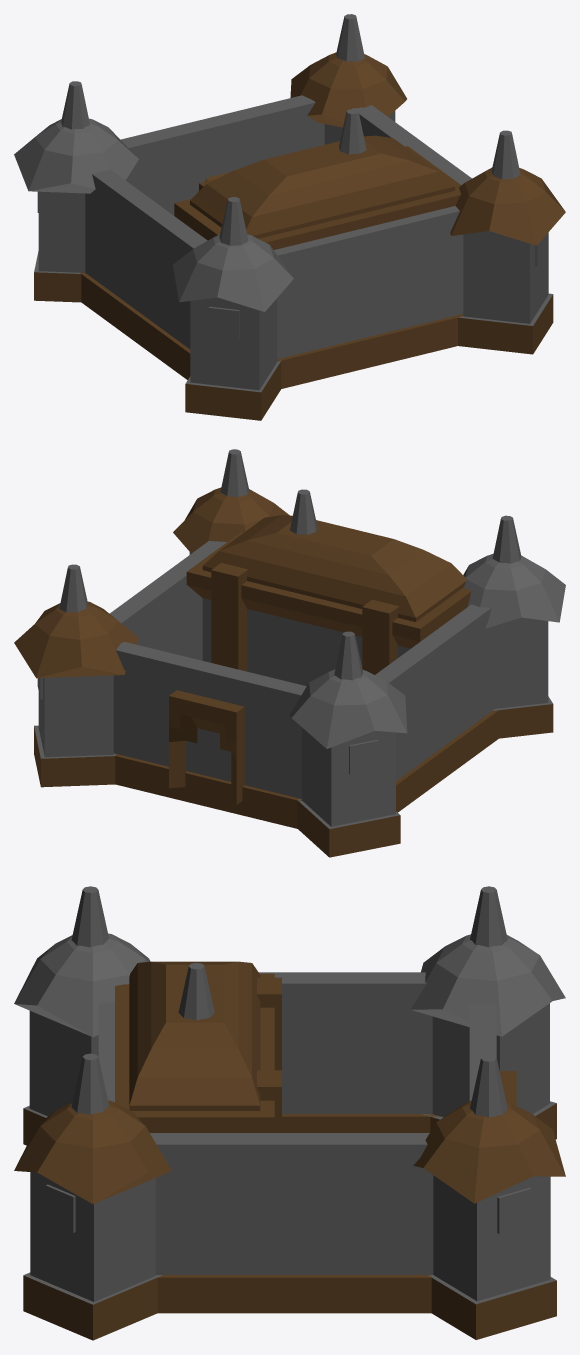
The model's file is Barracks_Upgraded.fbx.
The picture shows the model from 3 angles, top to bottom: view 1: azimuth 30°, elevation 25°; view 2: azimuth 150°, elevation 25°; view 3: azimuth 270°, elevation 25°; orthographic projection. The views are drawn at different scales.
Visible parts, largest first — view 1: Wall_02 (×4), Tower_Roof (×4), pCube2, Tower1, Tower4, Wall_04, Tower, Wall_01, pCylinder5, pCylinder4, pCylinder3, pCylinder2 (+2 smaller); view 2: Wall_02 (×3), pCube2, Tower_Roof (×4), Tower, Tower3, Tower4, Wall_03, House, pCube3, Wall_01, pCube4, pCylinder3 (+5 smaller); view 3: Wall_02 (×4), Tower_Roof (×4), pCube2, Tower1, Tower3, Wall_05, Tower, Tower4, Wall_01, Tower_Window (×2), pCylinder2, pCylinder5 (+5 smaller).
Boxes of the visible parts, <box> form: Wall_02 (×4): <box>85,95,471,358</box>; Tower_Roof (×4): <box>14,52,565,311</box>; pCube2: <box>174,135,461,249</box>; Tower1: <box>458,231,553,354</box>; Tower4: <box>185,297,281,420</box>; Wall_04: <box>277,314,463,388</box>; Tower: <box>34,191,85,302</box>; Wall_01: <box>80,272,190,379</box>; pCylinder5: <box>491,130,520,179</box>; pCylinder4: <box>219,197,248,245</box>; pCylinder3: <box>61,81,89,129</box>; pCylinder2: <box>336,14,364,61</box>; Wall_02 (×3): <box>109,541,494,798</box>; pCube2: <box>186,515,471,686</box>; Tower_Roof (×4): <box>14,487,565,748</box>; Tower: <box>297,727,400,857</box>; Tower3: <box>34,675,115,787</box>; Tower4: <box>493,617,553,738</box>; Wall_03: <box>115,753,302,828</box>; House: <box>169,690,244,804</box>; pCube3: <box>211,563,248,671</box>; Wall_01: <box>396,710,498,812</box>; pCube4: <box>362,599,399,674</box>; pCylinder3: <box>334,631,363,680</box>; Wall_02 (×4): <box>98,972,496,1274</box>; Tower_Roof (×4): <box>14,933,565,1203</box>; pCube2: <box>115,961,274,1132</box>; Tower1: <box>23,1172,162,1340</box>; Tower3: <box>429,1175,556,1339</box>; Wall_05: <box>156,1275,431,1313</box>; Tower: <box>422,1003,556,1139</box>; Tower4: <box>23,1011,98,1145</box>; Wall_01: <box>282,1114,440,1132</box>; Tower_Window (×2): <box>45,1184,531,1233</box>; pCylinder2: <box>470,1055,507,1117</box>; pCylinder5: <box>71,1053,109,1114</box>.
Size of the model in its own units: 14 by 7.72 by 13.97.
